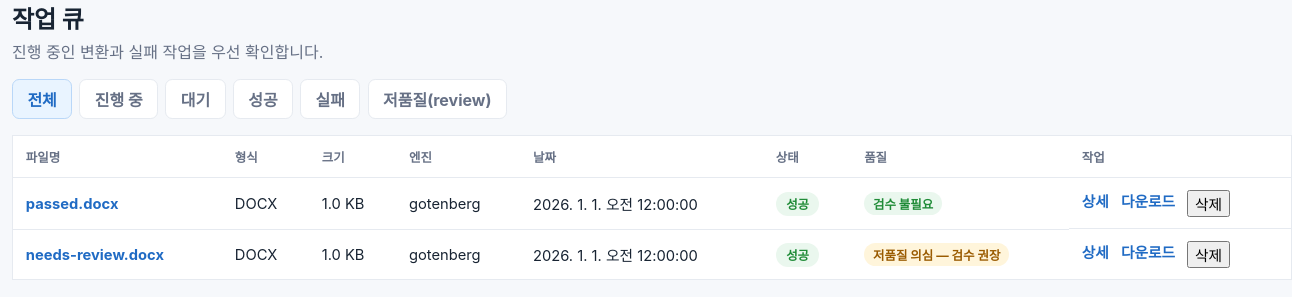
Scenario: 저품질 탭이 review job만 보여준다
Expected: the link "passed.docx" is shown, [26,195,118,213]
Step 1. Click the button "저품질(review)" → [437, 99], box [368,79,507,119]
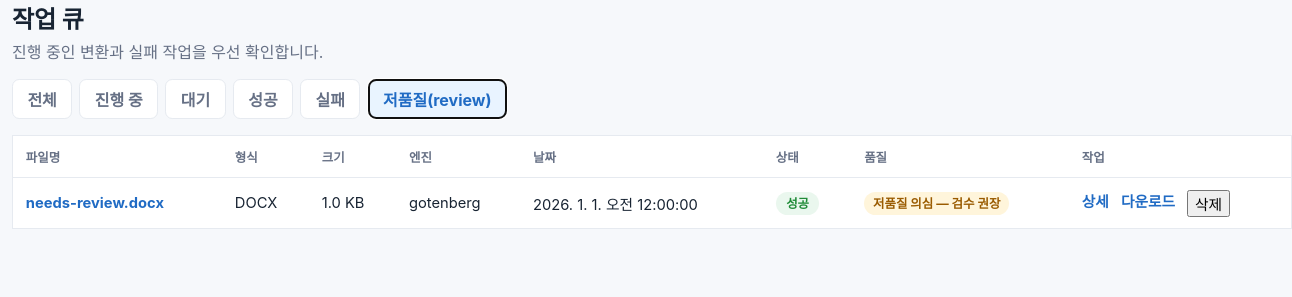
Expected: the link "needs-review.docx" is shown, [26,194,164,212]
Now the link "passed.docx" is gone
